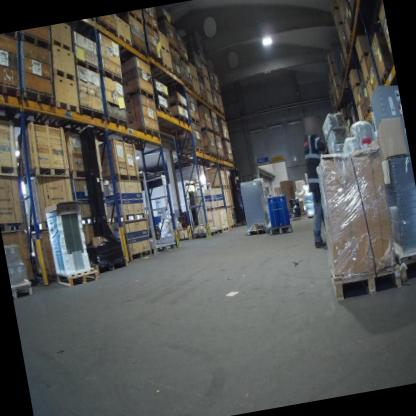pallet: (328, 253, 404, 303), (20, 160, 71, 185), (55, 262, 101, 288), (19, 84, 57, 113), (18, 28, 51, 56), (101, 167, 141, 189), (121, 81, 155, 106), (76, 100, 106, 127), (90, 253, 128, 274), (106, 210, 147, 229), (394, 249, 416, 284), (70, 164, 104, 185), (94, 15, 120, 42), (153, 87, 202, 101), (50, 61, 77, 86), (0, 77, 24, 105), (74, 56, 102, 80), (79, 209, 112, 228), (55, 95, 81, 117), (10, 276, 33, 299), (101, 65, 124, 88), (49, 34, 73, 56), (0, 215, 25, 236), (175, 141, 204, 159), (26, 217, 53, 236), (105, 110, 129, 131), (136, 123, 161, 142), (126, 246, 153, 263), (0, 159, 21, 179), (146, 48, 164, 69), (267, 223, 293, 237), (131, 41, 149, 61), (153, 101, 173, 119), (194, 228, 221, 241), (378, 68, 394, 89), (172, 111, 190, 129), (127, 9, 144, 28), (144, 15, 160, 35), (117, 33, 133, 52), (170, 96, 187, 112), (202, 148, 219, 163), (357, 49, 372, 66), (0, 30, 21, 42), (247, 227, 269, 238), (162, 59, 173, 79), (185, 79, 196, 96), (188, 113, 201, 127), (199, 124, 214, 136), (179, 52, 190, 68), (159, 42, 170, 57), (174, 71, 185, 86), (167, 40, 178, 55), (350, 80, 362, 93), (365, 103, 375, 118), (363, 73, 373, 87), (360, 110, 369, 123), (335, 0, 348, 9), (190, 72, 199, 84), (200, 94, 209, 106), (203, 205, 218, 212), (330, 70, 339, 81), (213, 102, 221, 114), (209, 82, 217, 94), (217, 154, 226, 164), (213, 129, 222, 139), (236, 218, 246, 227), (341, 16, 348, 28), (221, 135, 231, 143), (203, 71, 210, 82), (225, 158, 234, 166), (221, 225, 230, 233), (290, 215, 302, 221), (354, 100, 362, 109), (347, 34, 354, 44), (328, 60, 335, 69), (219, 108, 225, 118), (216, 88, 222, 98), (229, 222, 237, 229), (207, 100, 214, 108), (217, 204, 225, 211), (205, 86, 211, 95), (334, 83, 340, 92), (225, 203, 231, 211)
